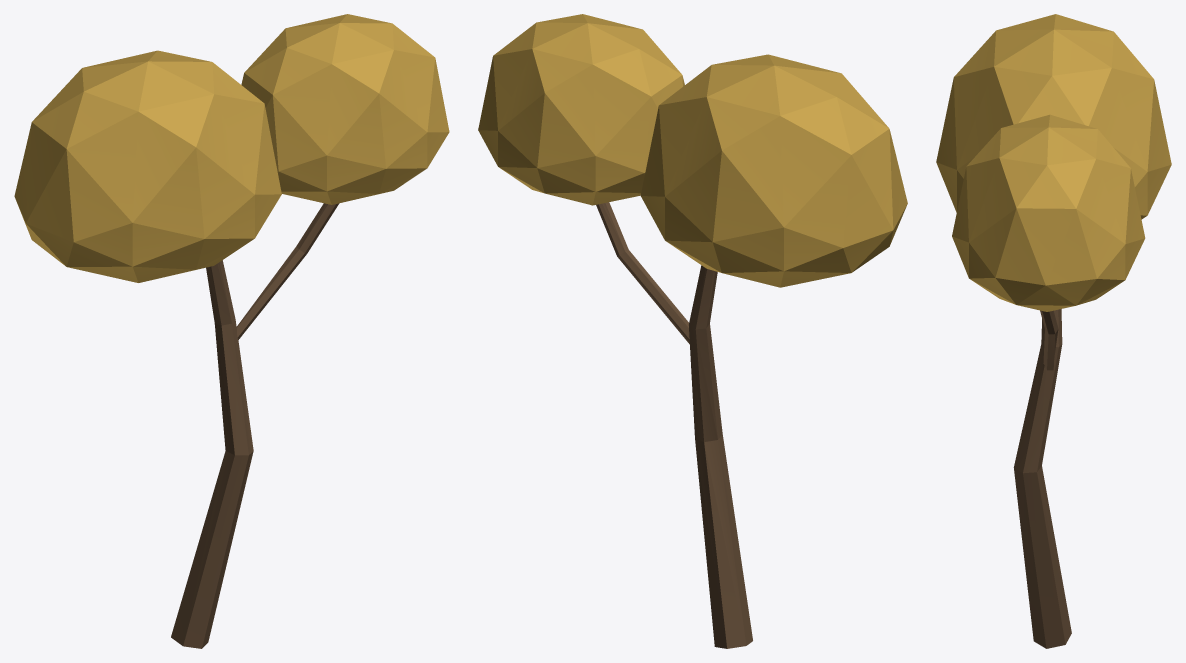
The model's file is tree_yellow_5.glb.
3 views of the same model, side by side, from view 1: azimuth 30°, elevation 25°; view 2: azimuth 150°, elevation 25°; view 3: azimuth 270°, elevation 25° (orthographic).
Visible parts, largest first — view 1: Tree Yellow 6; view 2: Tree Yellow 6; view 3: Tree Yellow 6.
Boxes of the visible parts, x1=… form: Tree Yellow 6: x1=14, y1=14, x2=449, y2=648; Tree Yellow 6: x1=478, y1=14, x2=907, y2=648; Tree Yellow 6: x1=936, y1=14, x2=1171, y2=648.
Bounding box in the file's own units: 0.1869 × 0.2588 × 0.0934.
